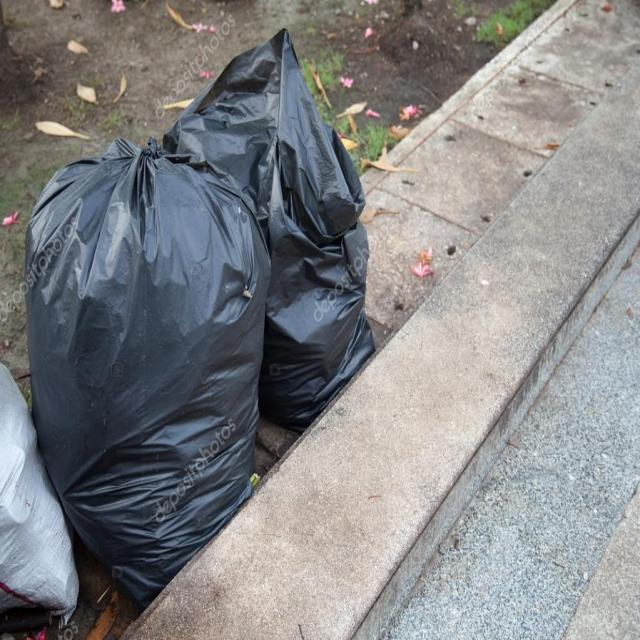Vinyl: (22, 118, 274, 616), (191, 16, 389, 422)
